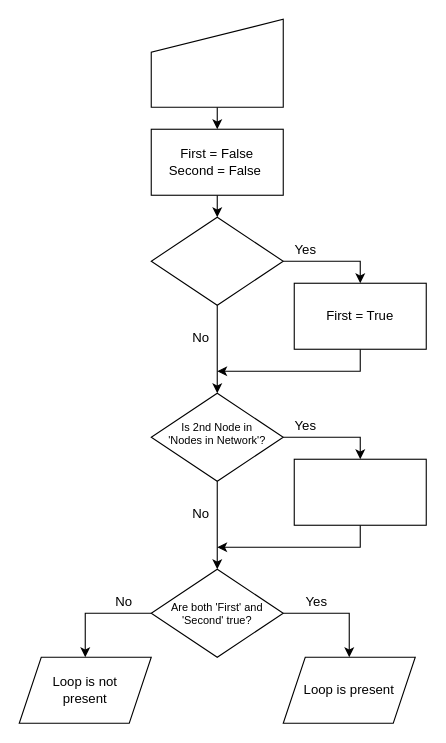
The diagram is 446 pixels wide and 743 high, and some of its shapes have lost their labels. Here are the shapes that lost their labels. From the top down, the centre of each, then its label:
At [216,62]: "(Nodes in Network, Connection Node Pair)".
At [216,260]: "Is 1st Node in 'Nodes in Network'?".
At [359,491]: "Second = True".
